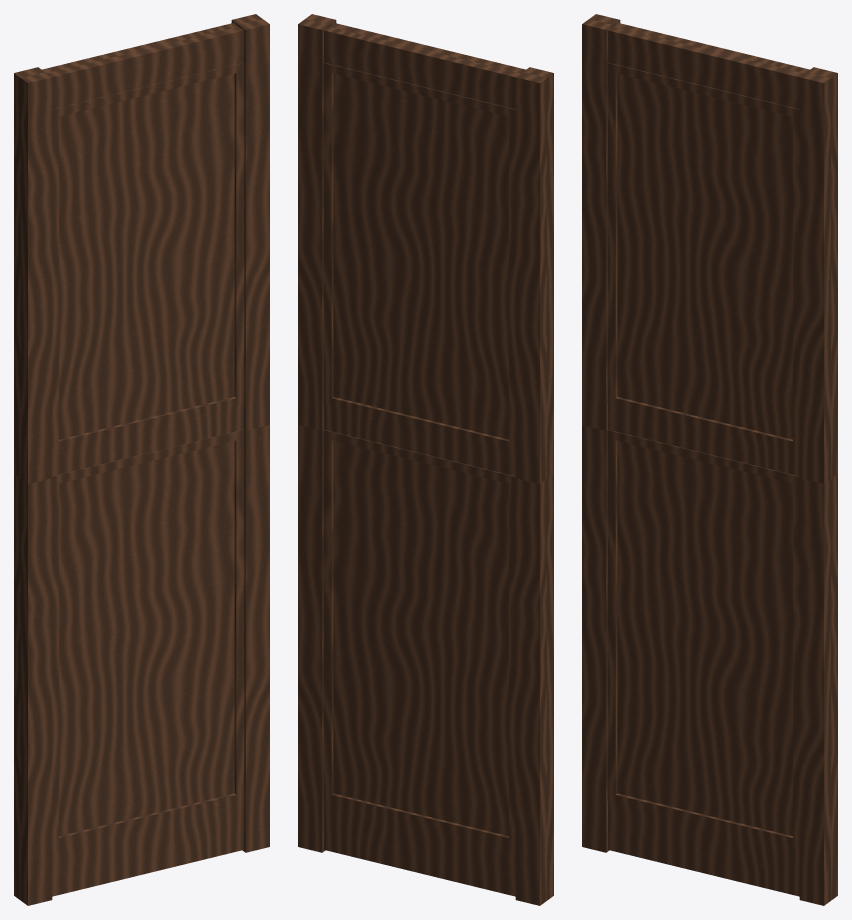
Rendered from X14_PART_Panel_Wood_060.glb.
The picture shows the model from 3 angles, left to right: view 1: azimuth 30°, elevation 25°; view 2: azimuth 150°, elevation 25°; view 3: azimuth 330°, elevation 25°; orthographic projection.
Parts seen in each view (by area): view 1: X14_PART_Panel_Wood_060_LOD0; view 2: X14_PART_Panel_Wood_060_LOD0; view 3: X14_PART_Panel_Wood_060_LOD0.
Part boxes in pixels (left/top/right/bottom): X14_PART_Panel_Wood_060_LOD0: left=14, top=14, right=269, bottom=905; X14_PART_Panel_Wood_060_LOD0: left=298, top=14, right=553, bottom=905; X14_PART_Panel_Wood_060_LOD0: left=582, top=14, right=837, bottom=905.
Size of what is drawn, in the model's own units: 0.6 by 1.95 by 0.06.
Materials: 1 (1 with a texture image).
